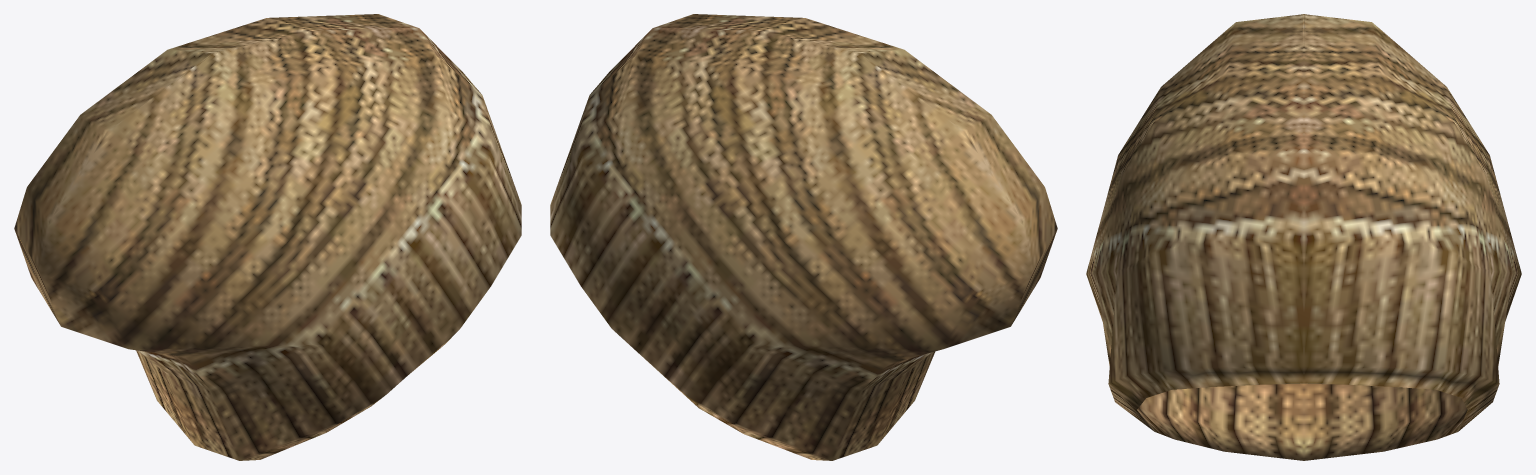
File: hat_0400047.FBX
3 renders of one model, left to right at view 1: azimuth 30°, elevation 25°; view 2: azimuth 150°, elevation 25°; view 3: azimuth 270°, elevation 25°, orthographic. The views are drawn at different scales.
Parts seen in each view (by area): view 1: hat_0400047; view 2: hat_0400047; view 3: hat_0400047.
Part boxes in pixels (left/top/right/bottom): hat_0400047: left=14, top=14, right=521, bottom=460; hat_0400047: left=550, top=14, right=1057, bottom=460; hat_0400047: left=1086, top=14, right=1521, bottom=460.
Bounding box in the file's own units: 34.7 × 28.79 × 25.58.
